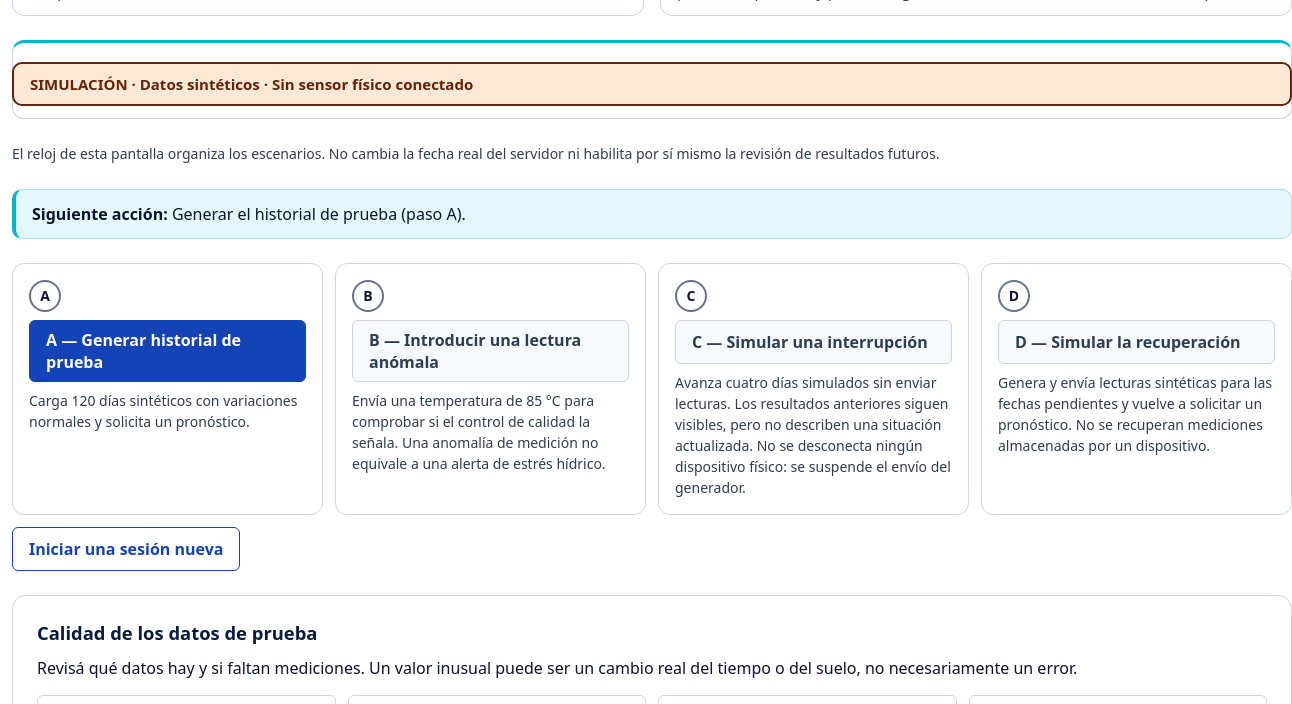
Test: SensorLabPage › runs scenario A: backfills the fixed history, confirms via GET /quality, and runs the real forecast pipeline
(page scrolled)
Click the button "A — Generar historial de prueba" at (168, 351), box [29,320,306,382]
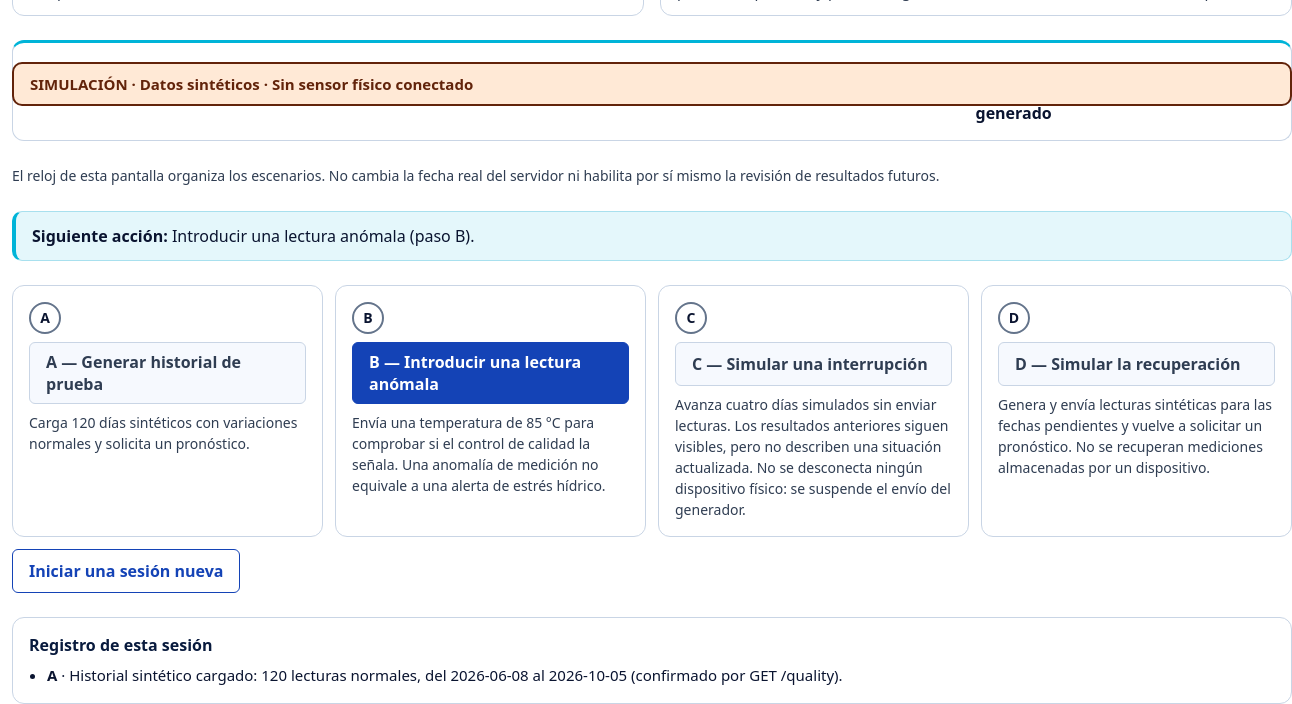
Expected: the button "B — Introducir una lectura anómala" is enabled, [352,342,629,404]
Expected: the list item "Historial sintético cargado" is shown, [69,665,843,685]
